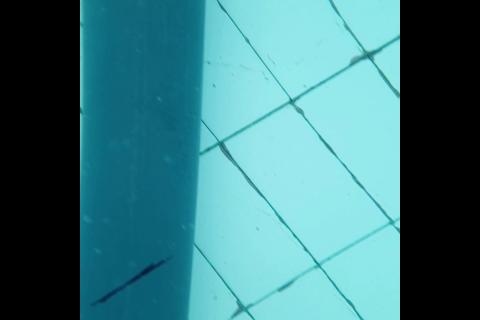keretakan: (87, 254, 175, 307)
